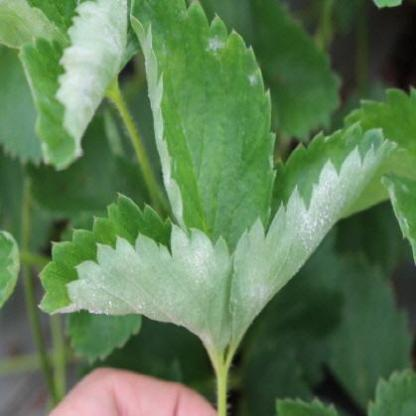Strawberry_Powdery_Mildew_Leaf: (228, 118, 402, 356), (129, 0, 279, 253), (36, 189, 233, 363), (16, 0, 140, 173)
